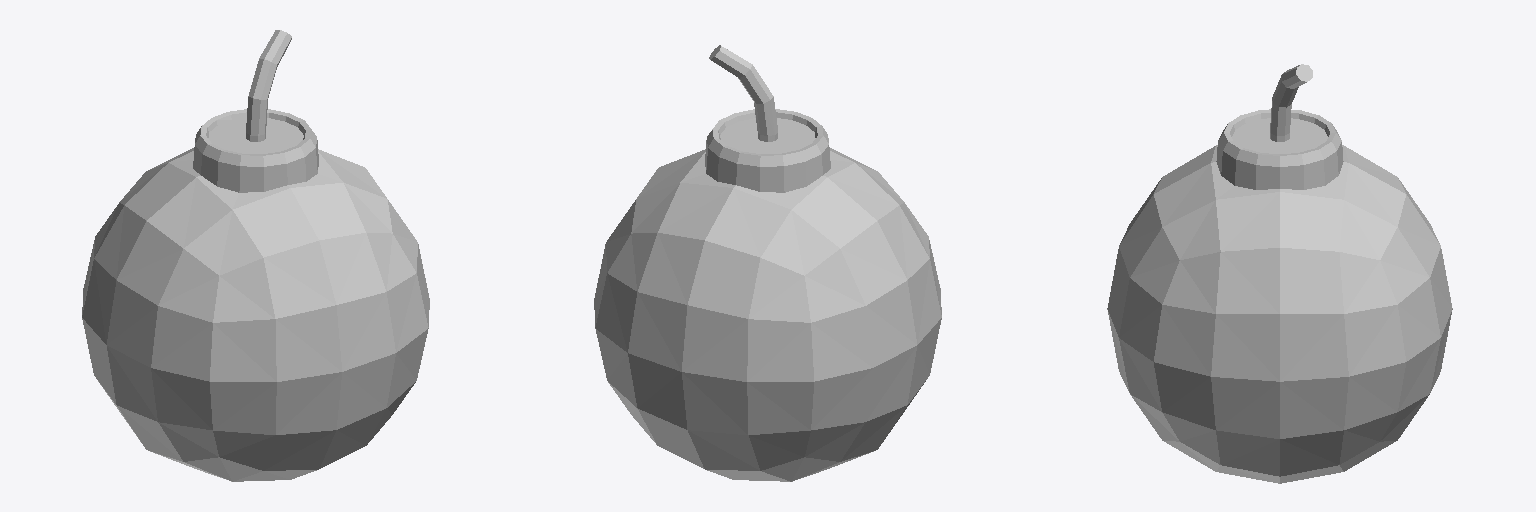
File: bomb.obj
3 views of the same model, side by side, from view 1: azimuth 30°, elevation 25°; view 2: azimuth 150°, elevation 25°; view 3: azimuth 270°, elevation 25° (orthographic).
Parts seen in each view (by area): view 1: pCube5; view 2: pCube5; view 3: pCube5.
Boxes of the visible parts, x1,y1,x2,y2 form: pCube5: [82, 30, 429, 481]; pCube5: [594, 45, 941, 481]; pCube5: [1107, 64, 1452, 483].
Bounding box in the file's own units: 0.8785 × 1.17 × 0.8785.